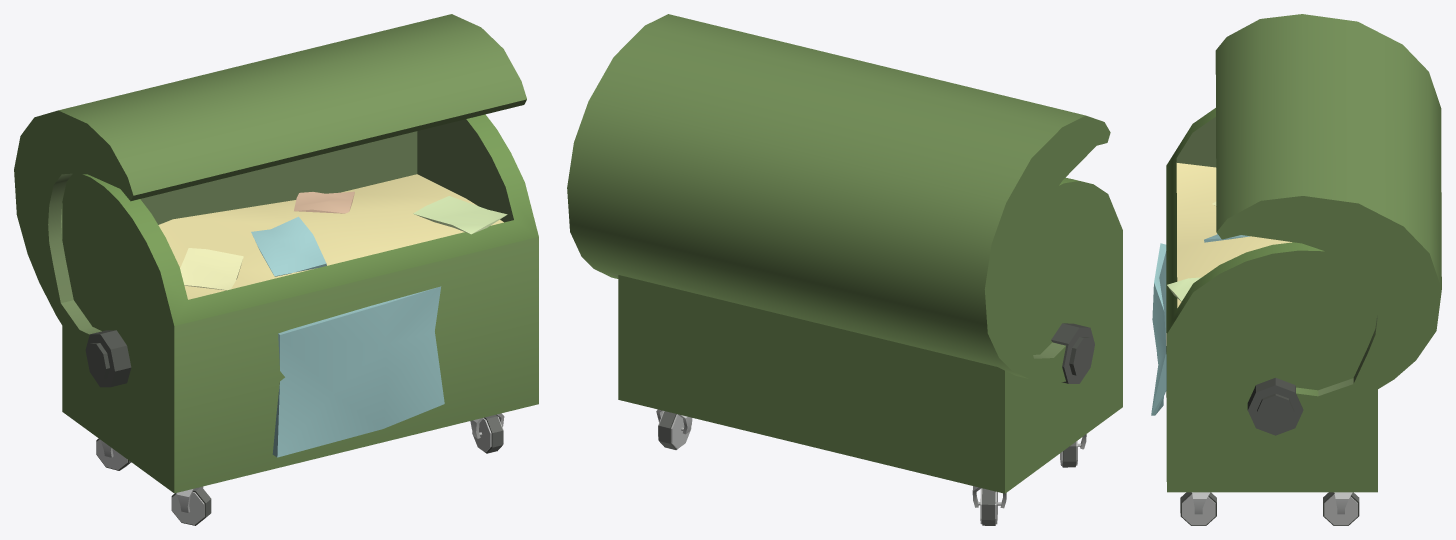
File: Dumpster.glb
3 views of the same model, side by side, from view 1: azimuth 30°, elevation 25°; view 2: azimuth 150°, elevation 25°; view 3: azimuth 270°, elevation 25° (orthographic). The views are drawn at different scales.
Parts seen in each view (by area): view 1: Dumpster; view 2: Dumpster; view 3: Dumpster.
Part boxes in pixels (bbox=[...]): Dumpster: bbox=[14, 14, 538, 525]; Dumpster: bbox=[567, 14, 1122, 525]; Dumpster: bbox=[1151, 14, 1441, 525].
Size of what is drawn, in the model's own units: 2.72 by 2.37 by 1.78.
Materials: 1 (1 with a texture image).
